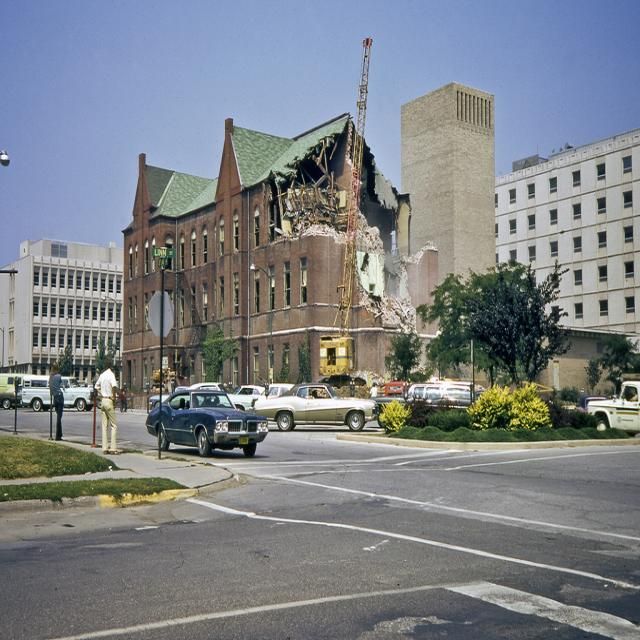car: (143, 382, 268, 457)
